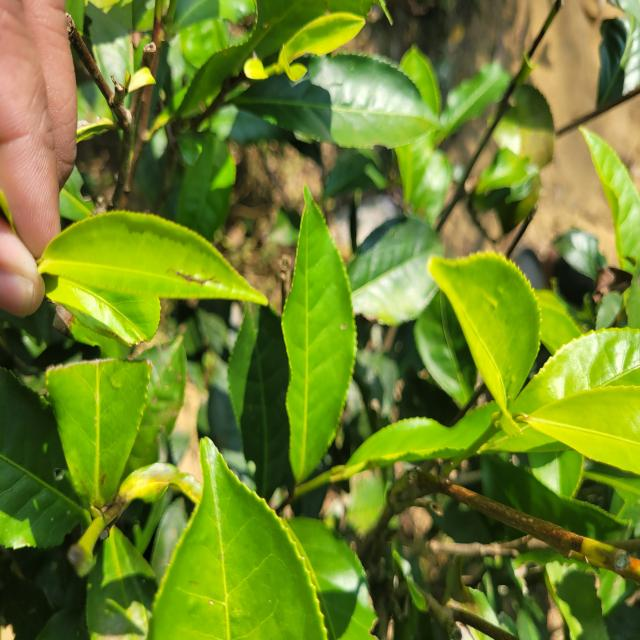Catagory A(1-2 days): (29, 206, 280, 318)
